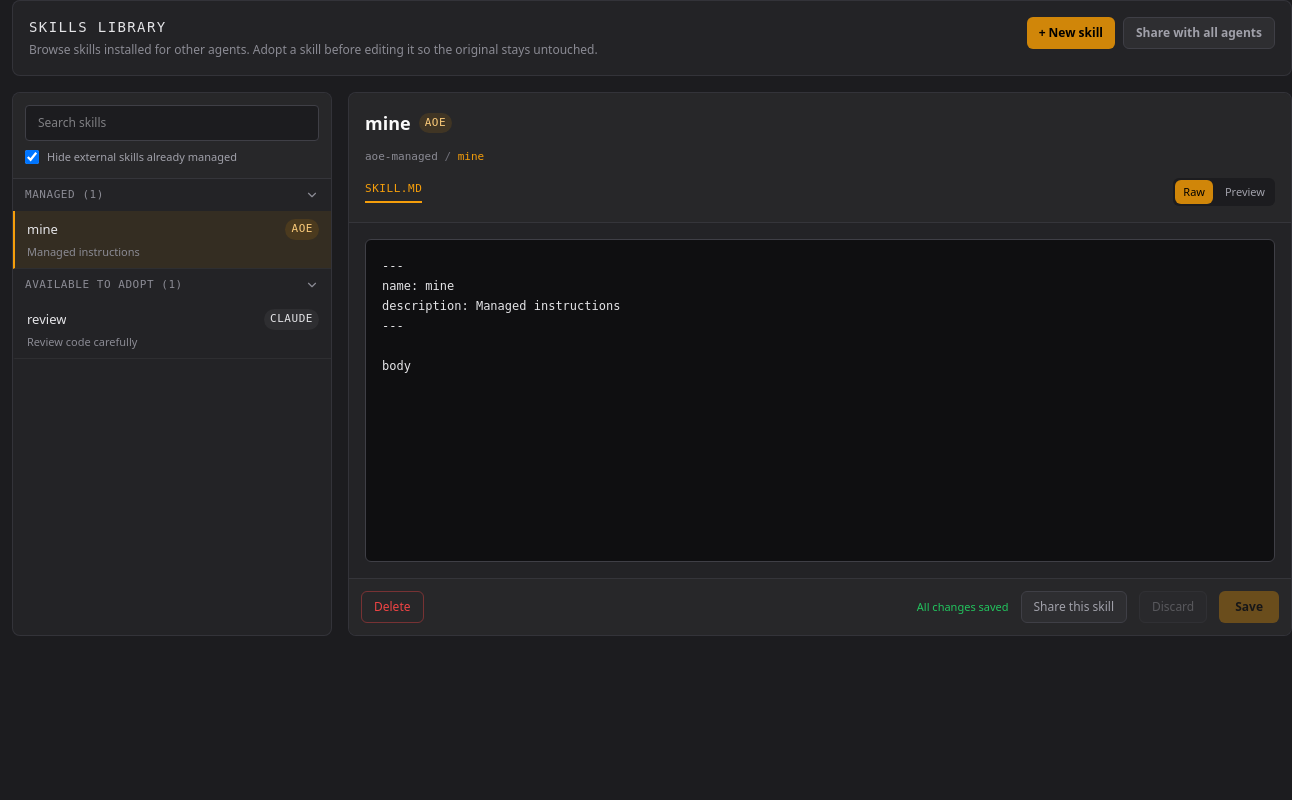
Test case: SkillsManager › shares only the selected skill, scoping the sync request to its directory
The image size is (1292, 800).
Expected: the text box named "SKILL.md content" is shown, [365,239,1275,562]
Click the button "Share this skill" at {"x": 1074, "y": 607}, box [1020,591,1127,623]
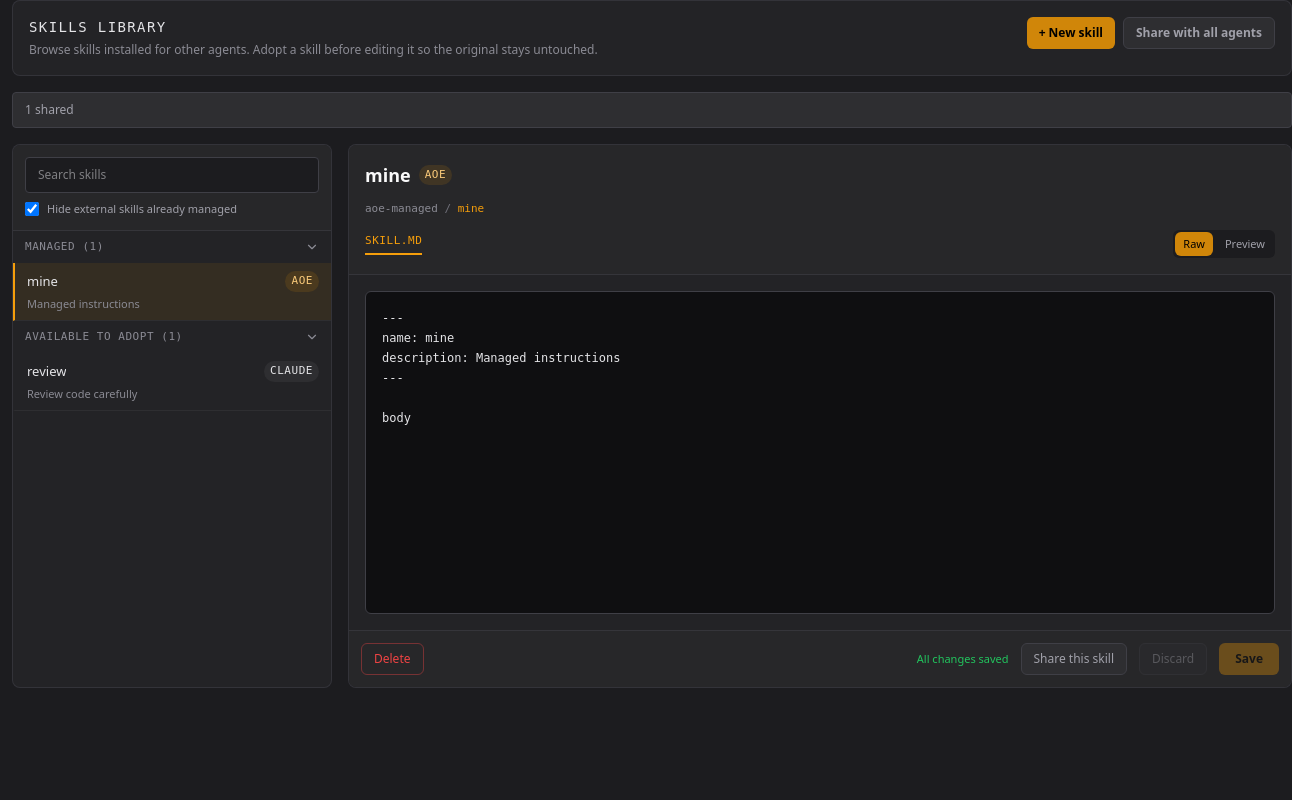
Expected: the text "1 shared" is shown, [25,101,74,118]
Replace the text in the text box named "SKILL.md content" with "changed" at {"x": 820, "y": 452}, box [365,291,1275,614]
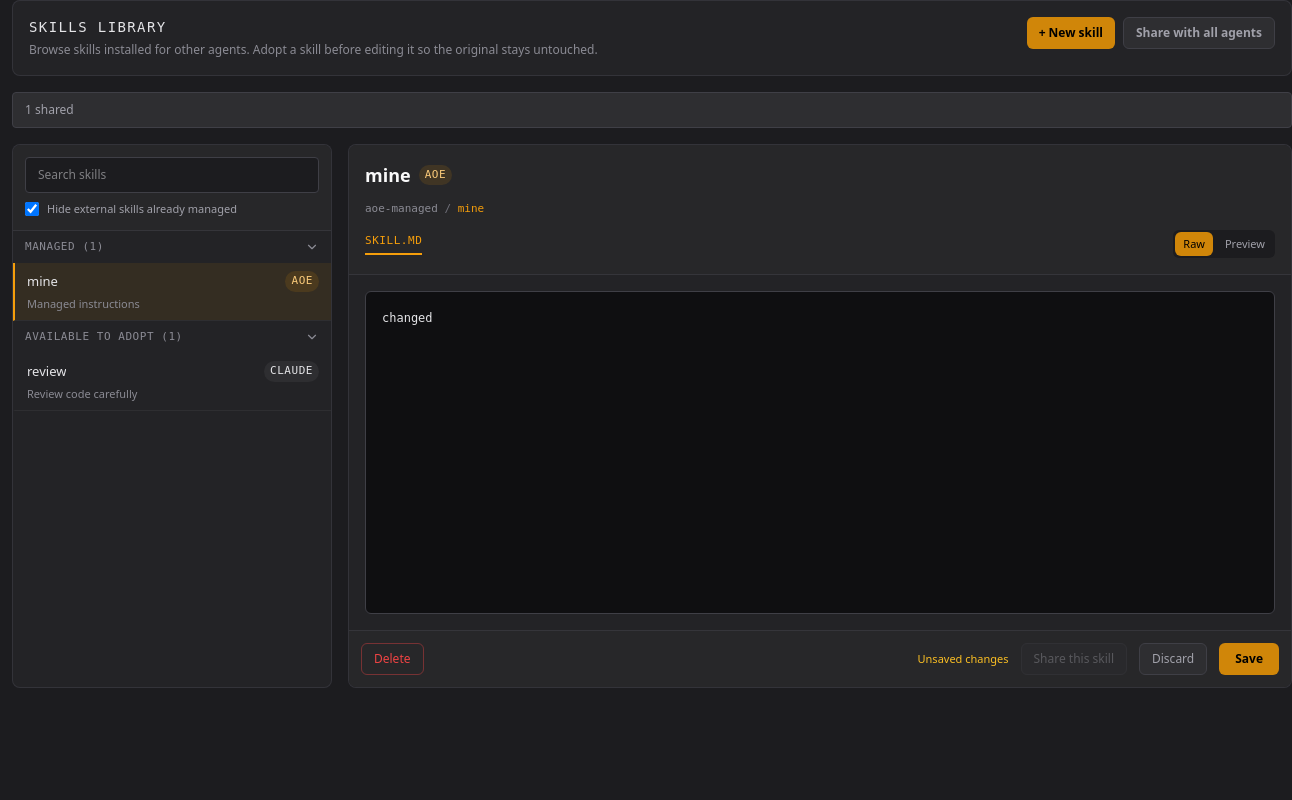
Expected: the button "Share this skill" is disabled, [1020,643,1127,675]
